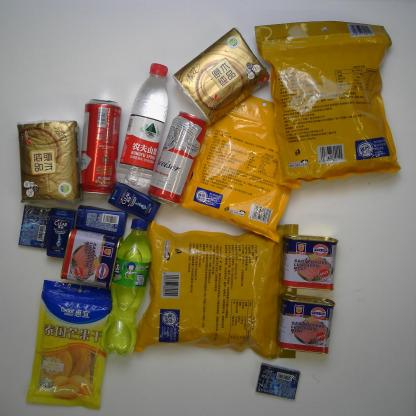Alcohol: (147, 110, 207, 207), (79, 98, 123, 195)
Canned Food: (60, 228, 124, 289), (276, 293, 336, 355), (280, 233, 339, 290)
Dried Food: (254, 20, 401, 190), (132, 223, 300, 360)
Dried Fruit: (180, 94, 292, 243), (24, 279, 108, 411)
Drink: (101, 217, 153, 357), (116, 62, 170, 187)
Gum: (254, 362, 301, 400), (17, 204, 52, 249)
Personal Hygiene: (106, 182, 162, 222), (75, 204, 127, 236), (46, 206, 76, 259)
Tissue: (170, 27, 272, 125), (16, 120, 84, 205)
